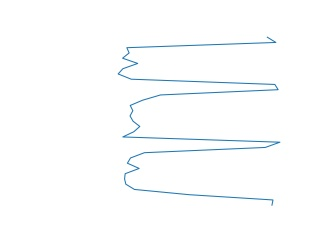majorRiverChannelBar: (116, 35, 286, 207)
